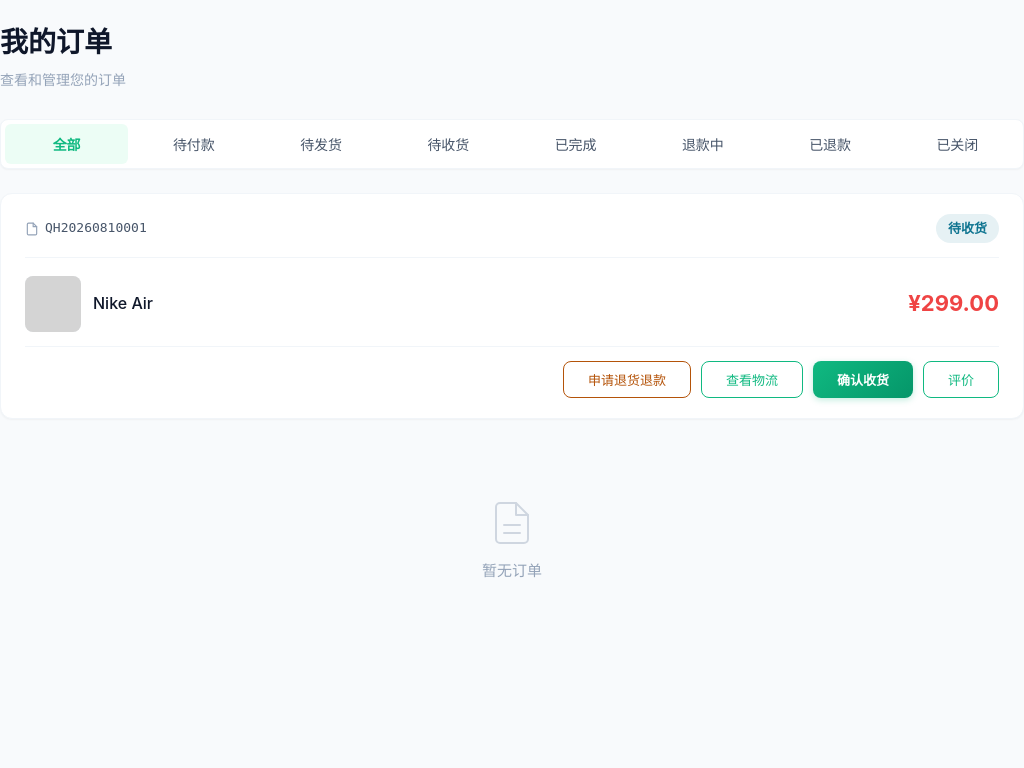
Test case: Orders 订单中心页 › 物流信息弹窗（P2-18） › 物流查询失败展示错误提示
What coordinates should you click on to do the following:
click the button with class "btn-comment" showing "查看物流"
I would click on:
 (752, 380)
Its box is [701, 361, 803, 398].
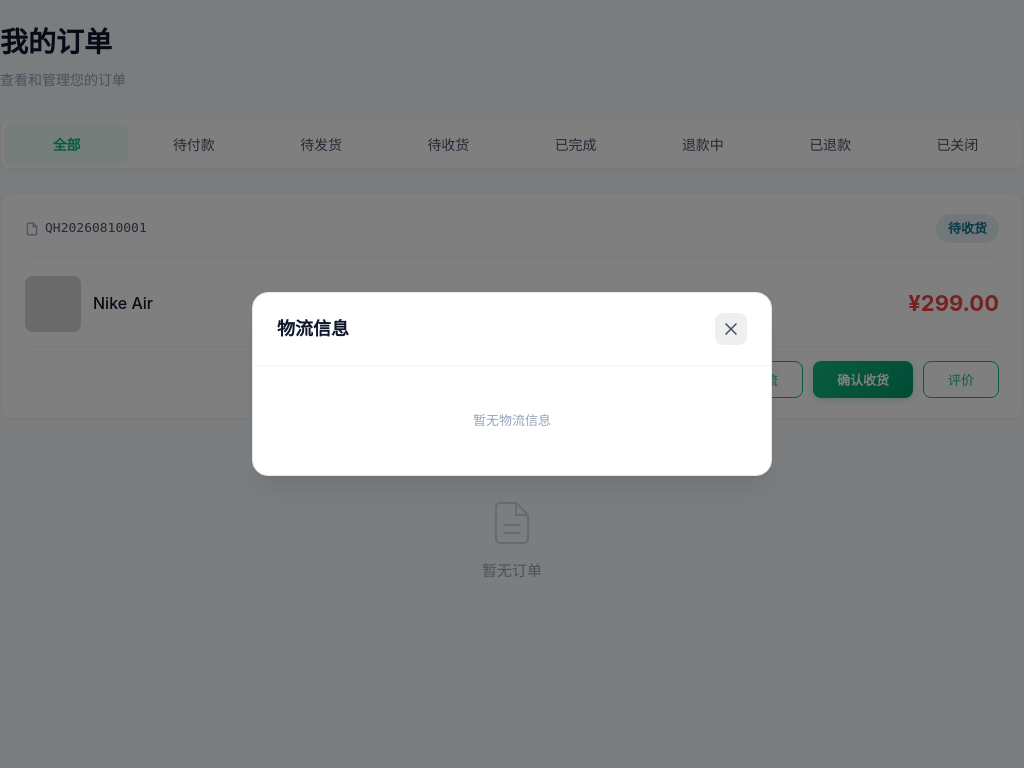
Now the text with class "modal-empty" reads "暂无物流信息", box [473, 412, 551, 428]
